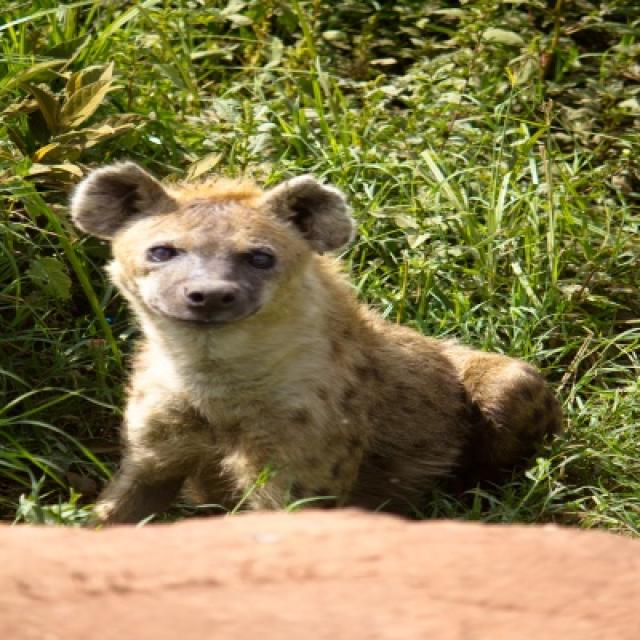hyena: (70, 162, 565, 528)
